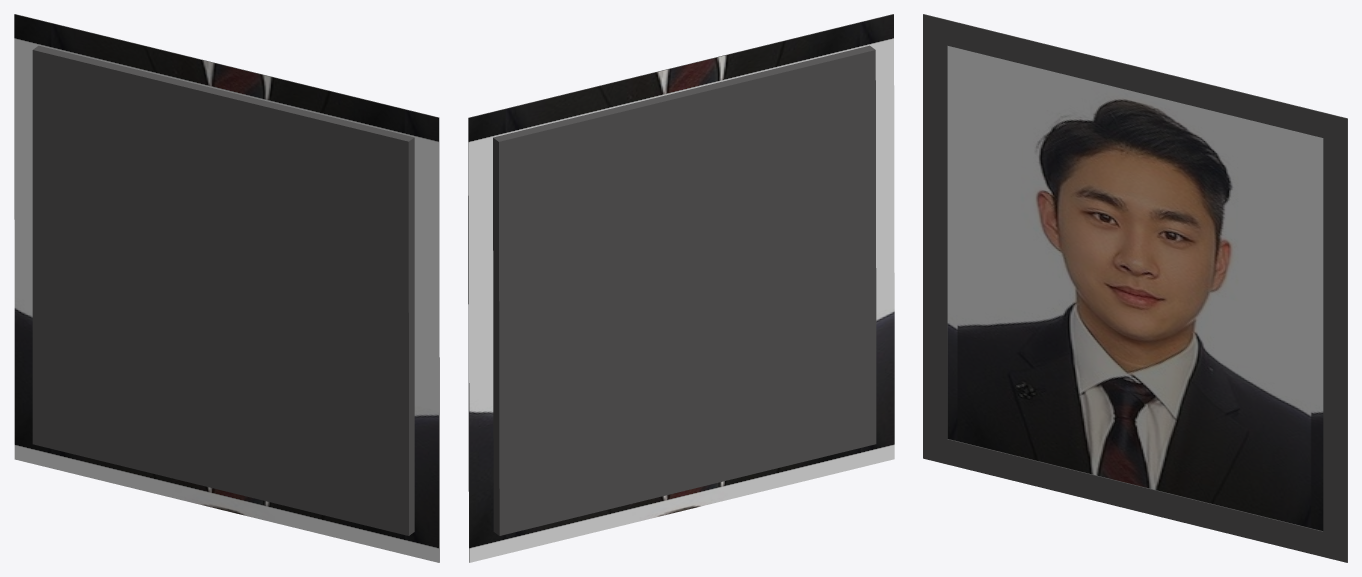
File: 45cb9bde-d31d-41c0-a0e2-062123a813dc.glb
3 views of the same model, side by side, from view 1: azimuth 90°, elevation 25°; view 2: azimuth 150°, elevation 25°; view 3: azimuth 270°, elevation 25° (orthographic).
Parts seen in each view (by area): view 1: Cube001; view 2: Cube001; view 3: Cube001.
Part boxes in pixels (x1,y1,x2,y2): Cube001: [14, 14, 439, 562]; Cube001: [468, 14, 894, 562]; Cube001: [923, 14, 1347, 562].
Size of the model in its own units: 1.01 by 2 by 1.73.
2 materials, 1 textured.
